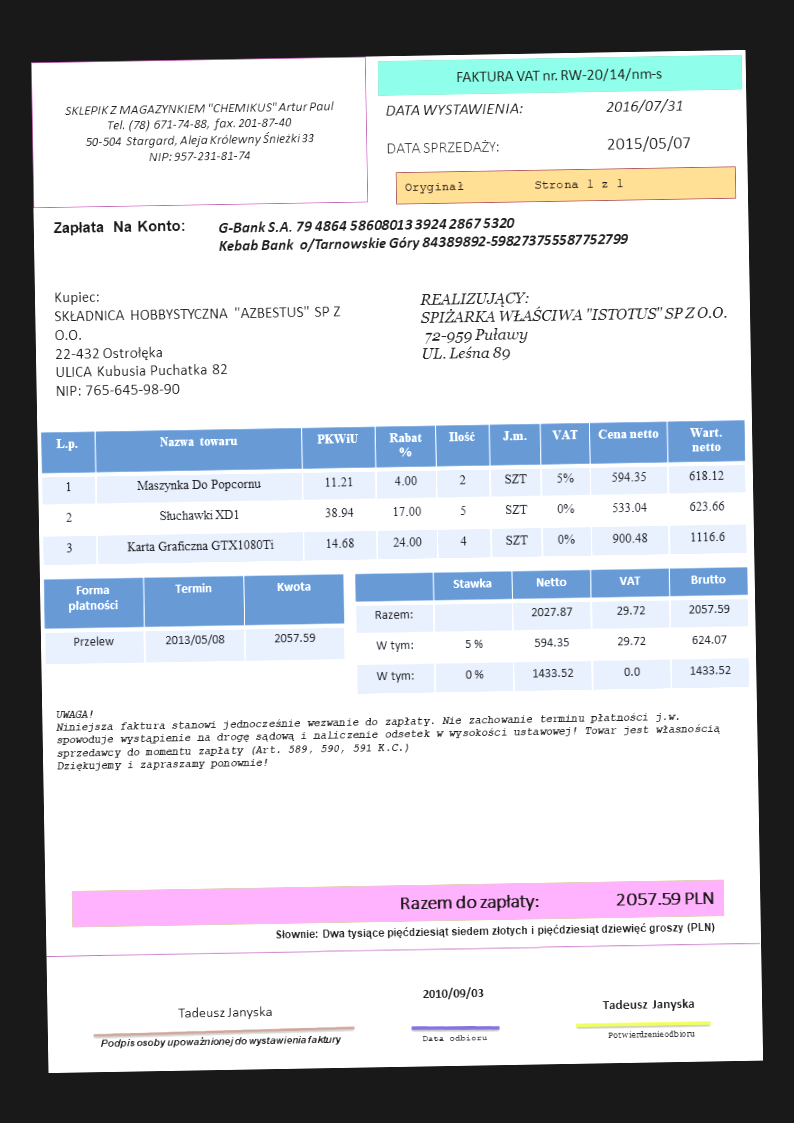Table: (39, 418, 749, 567), (353, 565, 750, 696), (42, 572, 347, 667)
TextBox: (54, 694, 725, 774), (50, 283, 345, 399), (416, 284, 731, 365), (59, 94, 338, 168), (215, 210, 631, 255), (272, 917, 717, 944), (396, 884, 718, 914), (452, 60, 664, 88), (96, 1028, 344, 1051), (402, 174, 627, 197), (383, 97, 525, 119), (383, 134, 502, 159), (51, 215, 186, 237), (601, 993, 698, 1015), (603, 132, 694, 155), (175, 1002, 274, 1021), (602, 95, 684, 115), (606, 1027, 697, 1043), (420, 983, 486, 1002), (420, 1030, 489, 1046)
